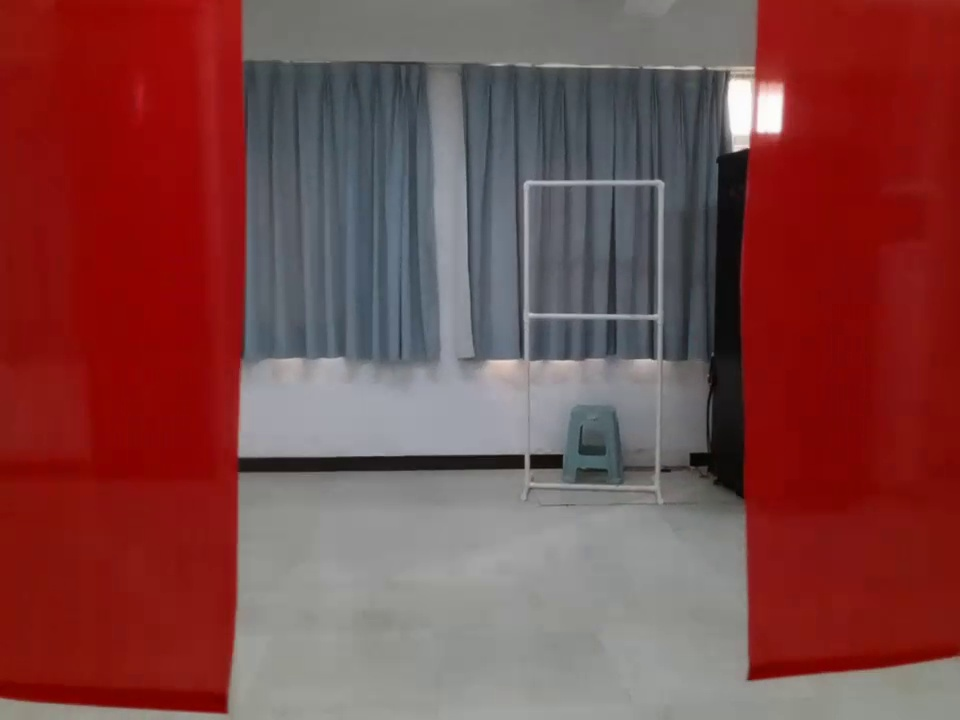qi: (1, 3, 248, 720), (746, 3, 958, 677)
